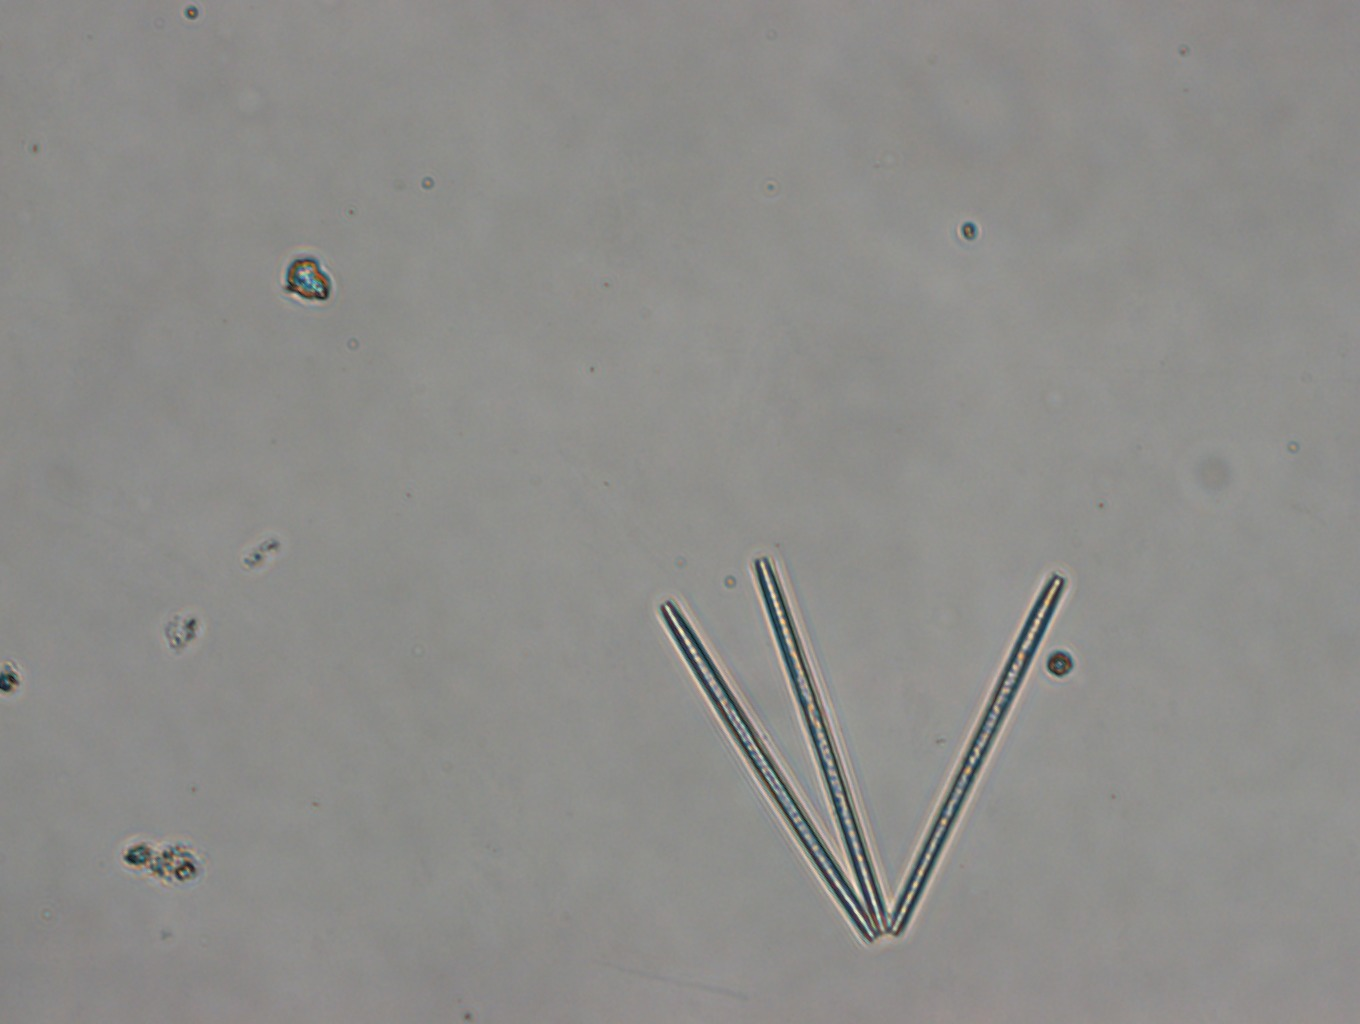thalassionema frauenfeldii: (654, 555, 1068, 949)
